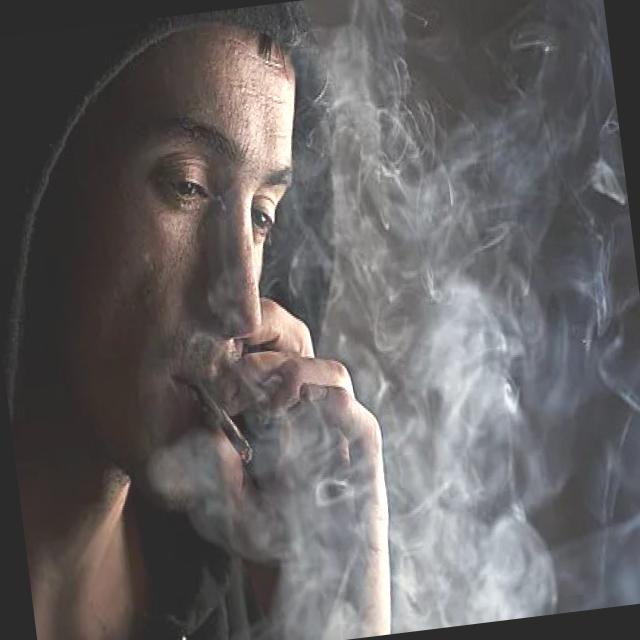smoke: (191, 372, 256, 472)
